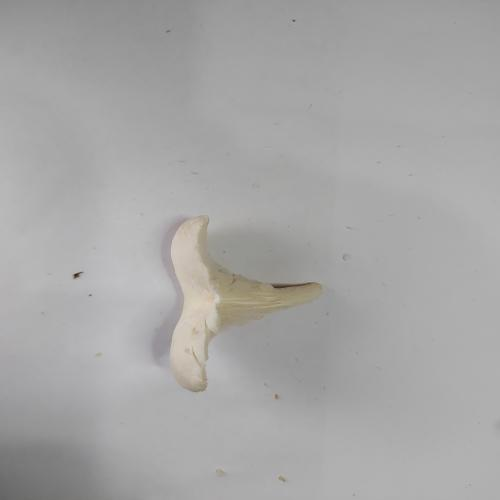Oyster Mushroom: (167, 214, 323, 393)
